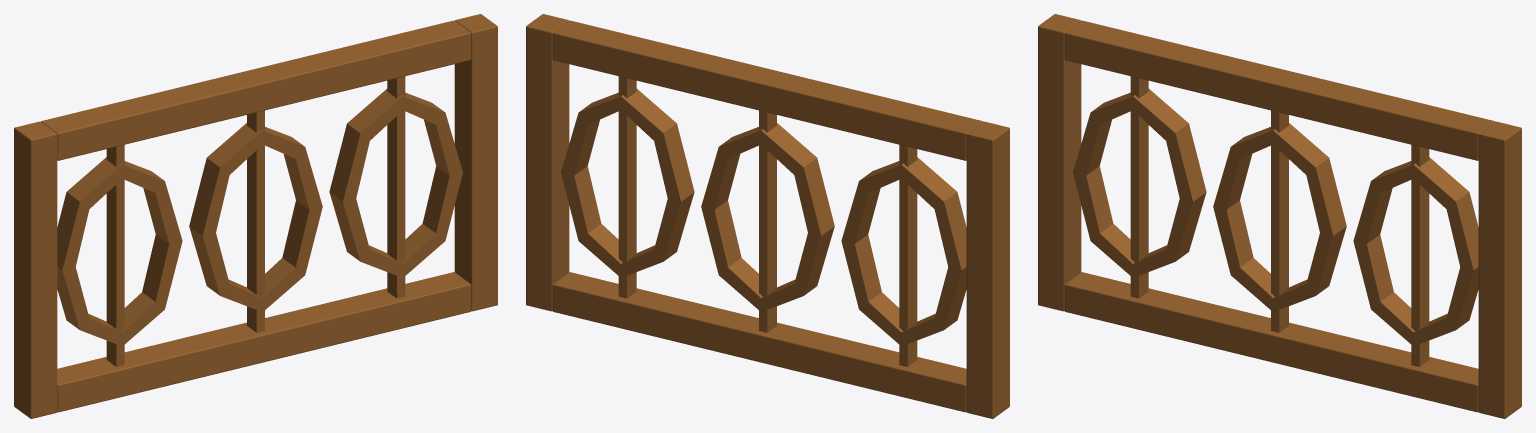
3 renders of one model, left to right at view 1: azimuth 30°, elevation 25°; view 2: azimuth 150°, elevation 25°; view 3: azimuth 330°, elevation 25°, orthographic.
Visible parts, largest first — view 1: PANEL_TopRail, PANEL_BottomRail, PANEL_Stile, PANEL_Stile.001, CARVE_Stem, CARVE_Stem.001, CARVE_Stem.002, CARVE_Petal.020, CARVE_Petal.012, CARVE_Petal.004, CARVE_Petal.008, CARVE_Petal (+19 smaller); view 2: PANEL_TopRail, PANEL_BottomRail, PANEL_Stile, PANEL_Stile.001, CARVE_Stem, CARVE_Stem.001, CARVE_Stem.002, CARVE_Petal.020, CARVE_Petal.012, CARVE_Petal.004, CARVE_Petal.008, CARVE_Petal (+19 smaller); view 3: PANEL_TopRail, PANEL_BottomRail, PANEL_Stile.001, PANEL_Stile, CARVE_Stem.001, CARVE_Stem, CARVE_Stem.002, CARVE_Petal.001, CARVE_Petal.009, CARVE_Petal.017, CARVE_Petal.005, CARVE_Petal.021 (+19 smaller).
Part boxes in pixels (<box>): PANEL_TopRail: <box>41,20,471,160</box>; PANEL_BottomRail: <box>57,272,471,412</box>; PANEL_Stile: <box>14,121,57,418</box>; PANEL_Stile.001: <box>454,14,497,311</box>; CARVE_Stem: <box>387,76,405,298</box>; CARVE_Stem.001: <box>106,145,124,366</box>; CARVE_Stem.002: <box>247,110,264,332</box>; CARVE_Petal.020: <box>329,123,369,201</box>; CARVE_Petal.012: <box>189,158,229,235</box>; CARVE_Petal.004: <box>57,192,89,270</box>; CARVE_Petal.008: <box>142,234,182,308</box>; CARVE_Petal: <box>422,166,462,240</box>; PANEL_TopRail: <box>552,20,982,160</box>; PANEL_BottomRail: <box>552,272,966,412</box>; PANEL_Stile: <box>966,121,1009,418</box>; PANEL_Stile.001: <box>526,14,569,311</box>; CARVE_Stem: <box>618,76,636,298</box>; CARVE_Stem.001: <box>899,145,917,366</box>; CARVE_Stem.002: <box>759,110,776,332</box>; CARVE_Petal.020: <box>654,123,694,201</box>; CARVE_Petal.012: <box>794,158,834,235</box>; CARVE_Petal.004: <box>934,192,966,270</box>; CARVE_Petal.008: <box>841,234,881,308</box>; CARVE_Petal: <box>561,166,601,240</box>; PANEL_TopRail: <box>1064,20,1494,160</box>; PANEL_BottomRail: <box>1064,272,1478,412</box>; PANEL_Stile.001: <box>1478,121,1521,418</box>; PANEL_Stile: <box>1038,14,1081,311</box>; CARVE_Stem.001: <box>1130,76,1148,298</box>; CARVE_Stem: <box>1411,145,1429,366</box>; CARVE_Stem.002: <box>1271,110,1288,332</box>; CARVE_Petal.001: <box>1166,123,1206,201</box>; CARVE_Petal.009: <box>1306,158,1346,235</box>; CARVE_Petal.017: <box>1446,192,1478,270</box>; CARVE_Petal.005: <box>1073,166,1113,240</box>; CARVE_Petal.021: <box>1353,234,1393,308</box>.
Bounding box in the file's own units: 1.4 × 0.8 × 0.09.
